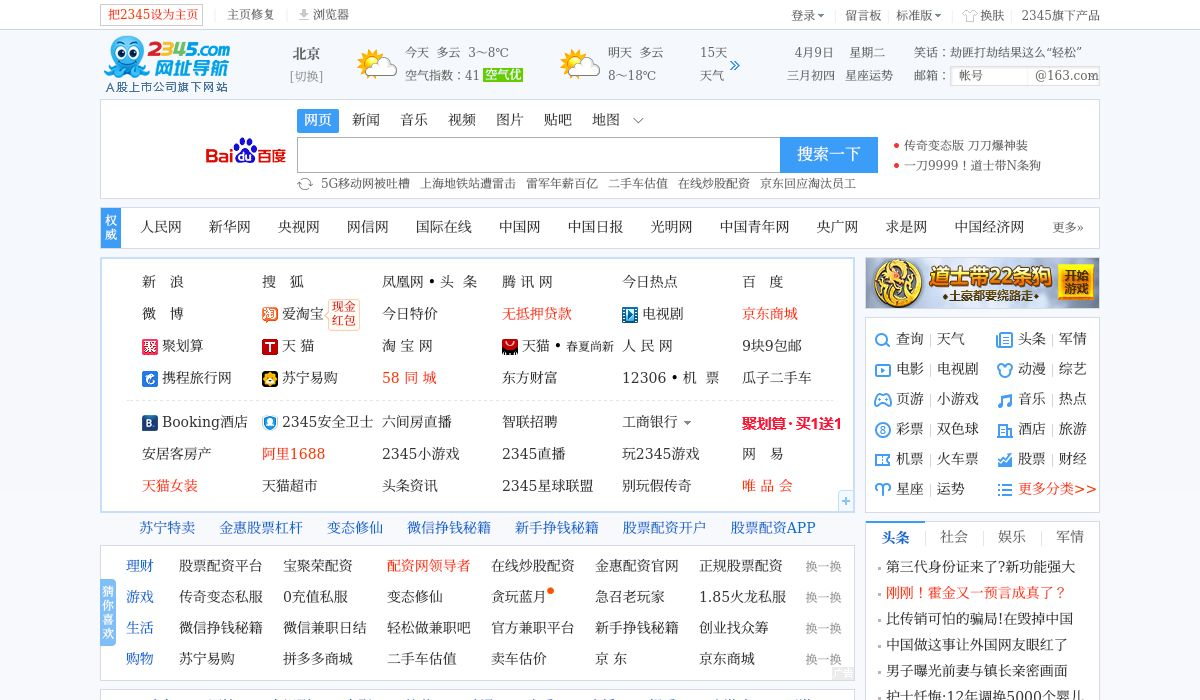menu: (1, 1, 1199, 30)
menu-button: (100, 5, 202, 25), (1020, 7, 1102, 24), (225, 5, 278, 25), (297, 6, 350, 22), (960, 6, 1006, 23), (896, 8, 942, 24), (844, 7, 883, 24), (789, 8, 826, 22)
